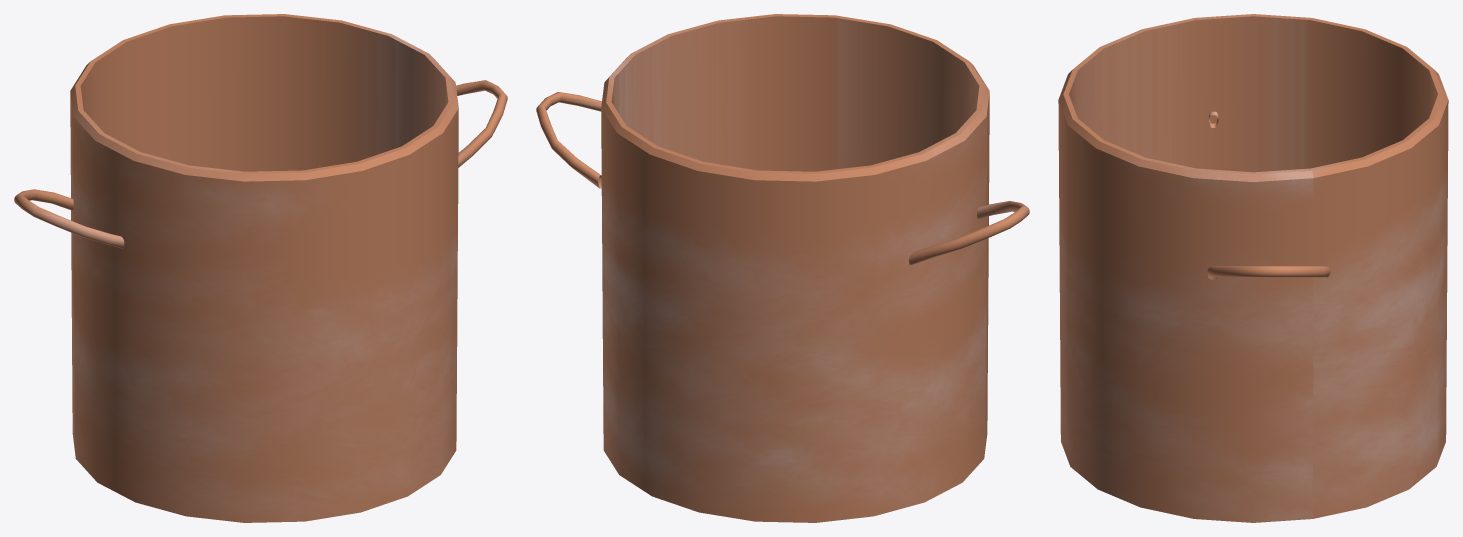
The model's file is pot_1.fbx.
3 renders of one model, left to right at view 1: azimuth 30°, elevation 25°; view 2: azimuth 150°, elevation 25°; view 3: azimuth 270°, elevation 25°, orthographic.
Parts seen in each view (by area): view 1: pot_1; view 2: pot_1; view 3: pot_1.
Part boxes in pixels (bbox=[...]): pot_1: bbox=[14, 14, 507, 522]; pot_1: bbox=[536, 14, 1029, 522]; pot_1: bbox=[1058, 14, 1448, 522].
Size of the model in its own units: 32.07 by 22.28 by 22.68.
